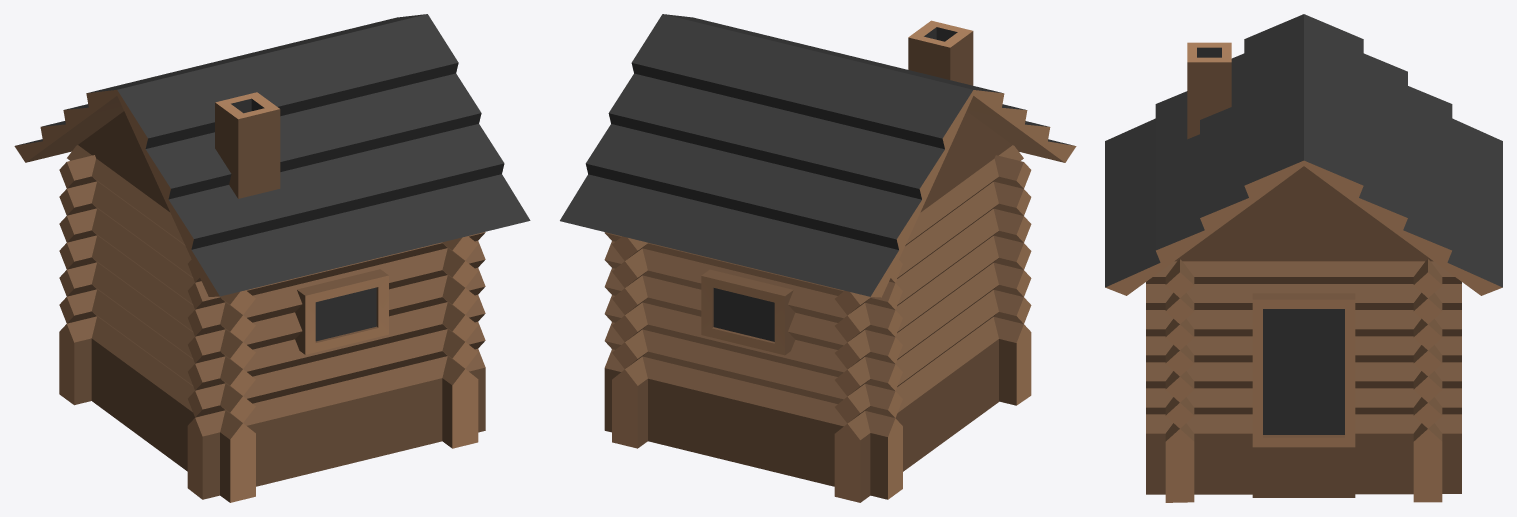
The model's file is house_05.glb.
The picture shows the model from 3 angles, left to right: view 1: azimuth 30°, elevation 25°; view 2: azimuth 150°, elevation 25°; view 3: azimuth 270°, elevation 25°; orthographic projection. The views are drawn at different scales.
Visible parts, largest first — view 1: house_05; view 2: house_05; view 3: house_05.
Boxes of the visible parts, box(x1,y1,x2,y2) form: house_05: box(14, 14, 530, 502); house_05: box(560, 14, 1076, 502); house_05: box(1105, 14, 1502, 502).
Size of the model in its own units: 1.38 by 1.53 by 1.58.
